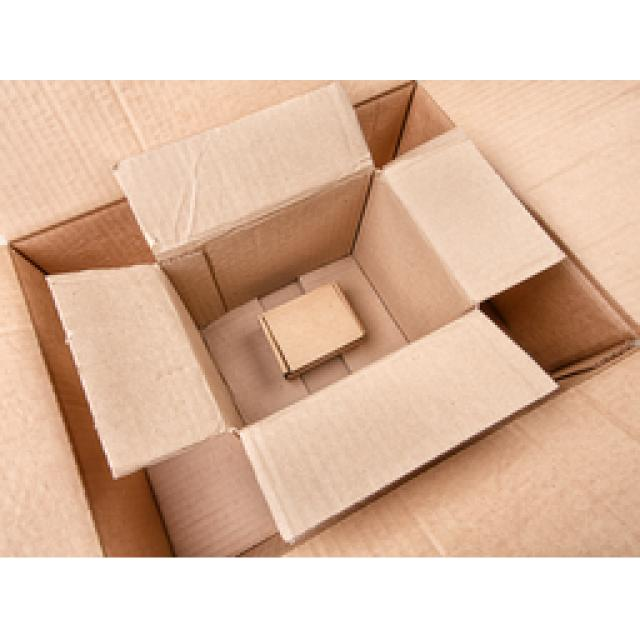cardboard: (0, 80, 640, 556), (7, 78, 640, 558), (44, 76, 565, 545), (258, 281, 367, 376)
